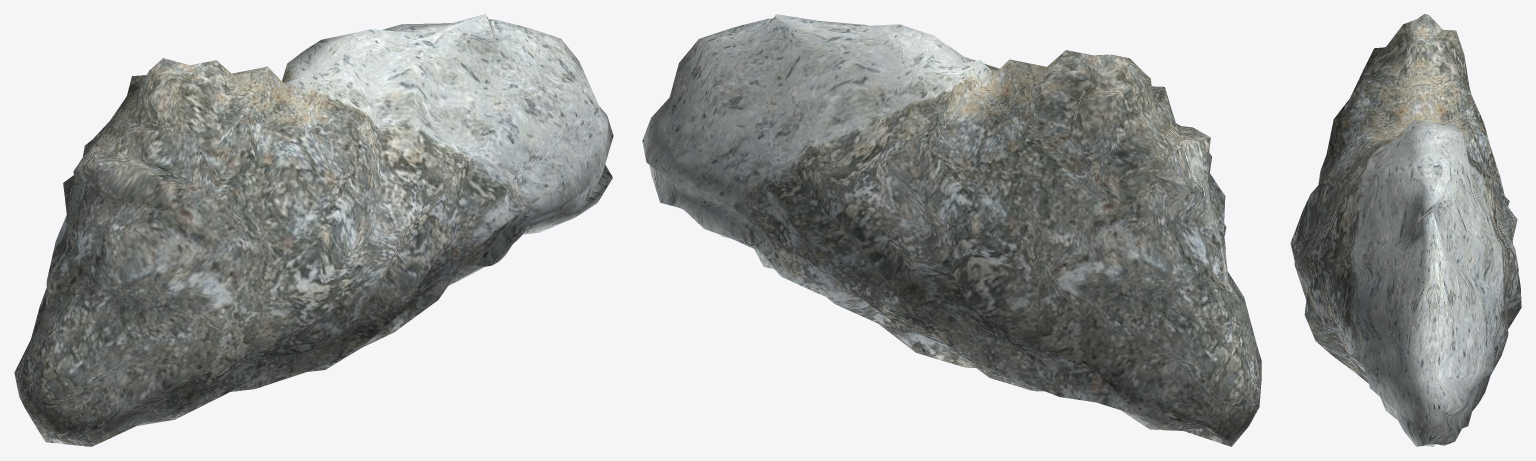
Rendered from Andesite.fbx.
The picture shows the model from 3 angles, left to right: view 1: azimuth 30°, elevation 25°; view 2: azimuth 150°, elevation 25°; view 3: azimuth 270°, elevation 25°; orthographic projection. The views are drawn at different scales.
Visible parts, largest first — view 1: Andesite; view 2: Andesite; view 3: Andesite.
Part boxes in pixels (left/top/right/bottom): Andesite: left=14, top=14, right=613, bottom=446; Andesite: left=642, top=14, right=1261, bottom=446; Andesite: left=1290, top=14, right=1521, bottom=446.
Bounding box in the file's own units: 461 × 263 × 162.
